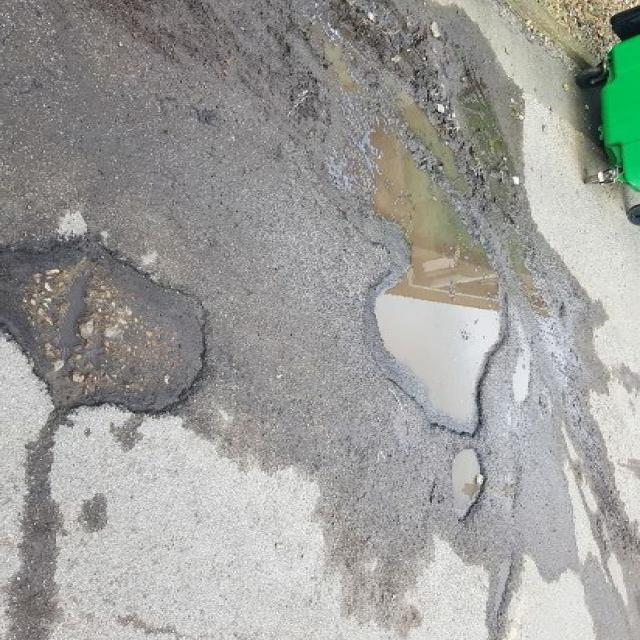pothole: (354, 104, 522, 440), (3, 239, 222, 424), (435, 444, 502, 526)
